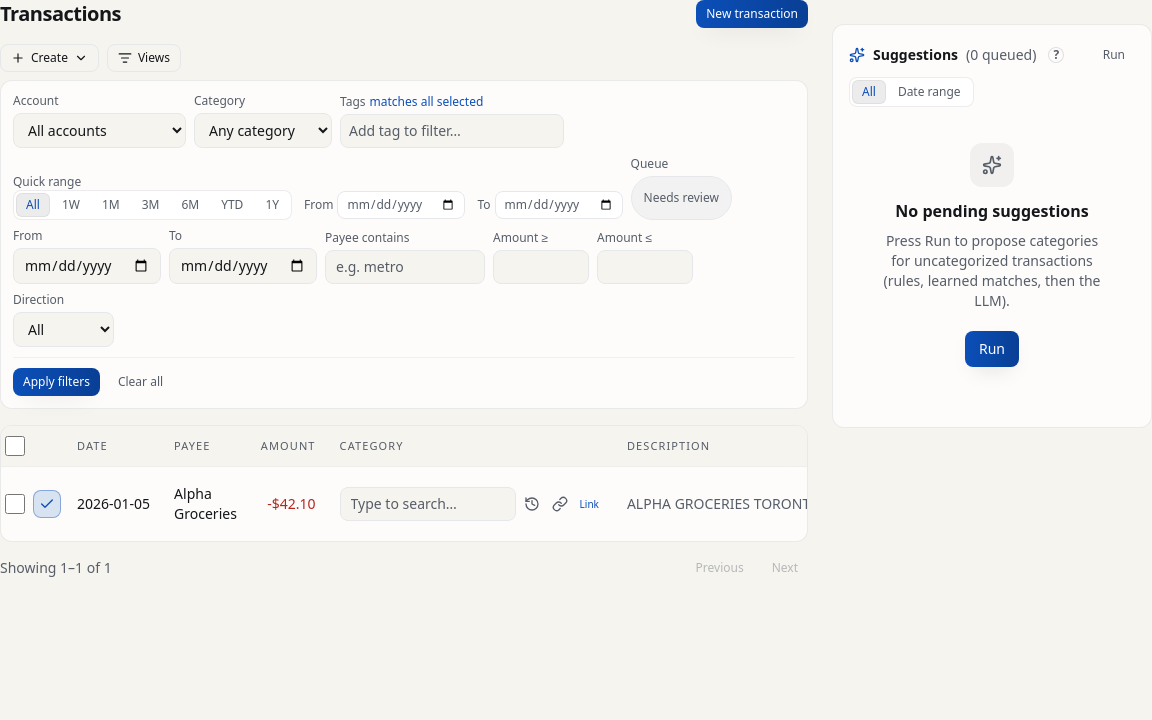
Test case: M104 multi-tag filter › opens the management modal from the picker's footer
Focus the dropdown labelled "Add tag to filter" at (452, 131), box [340, 114, 564, 148]
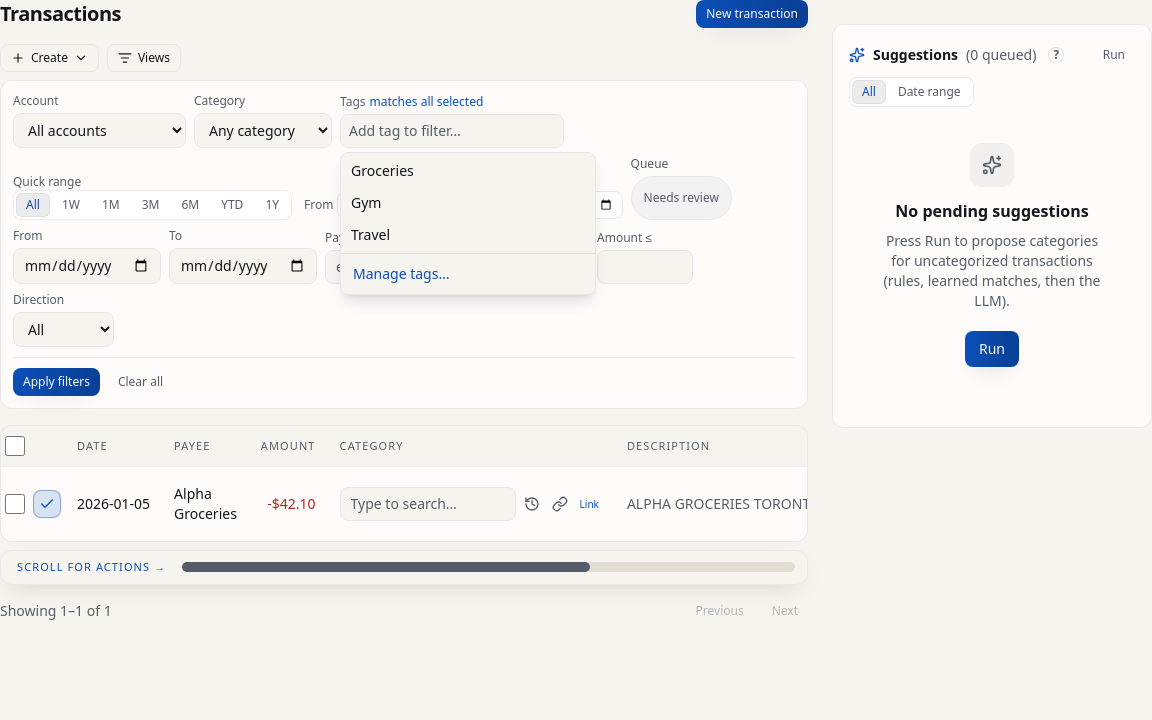
Click the button "Manage tags…" at (468, 274), box [345, 258, 591, 290]
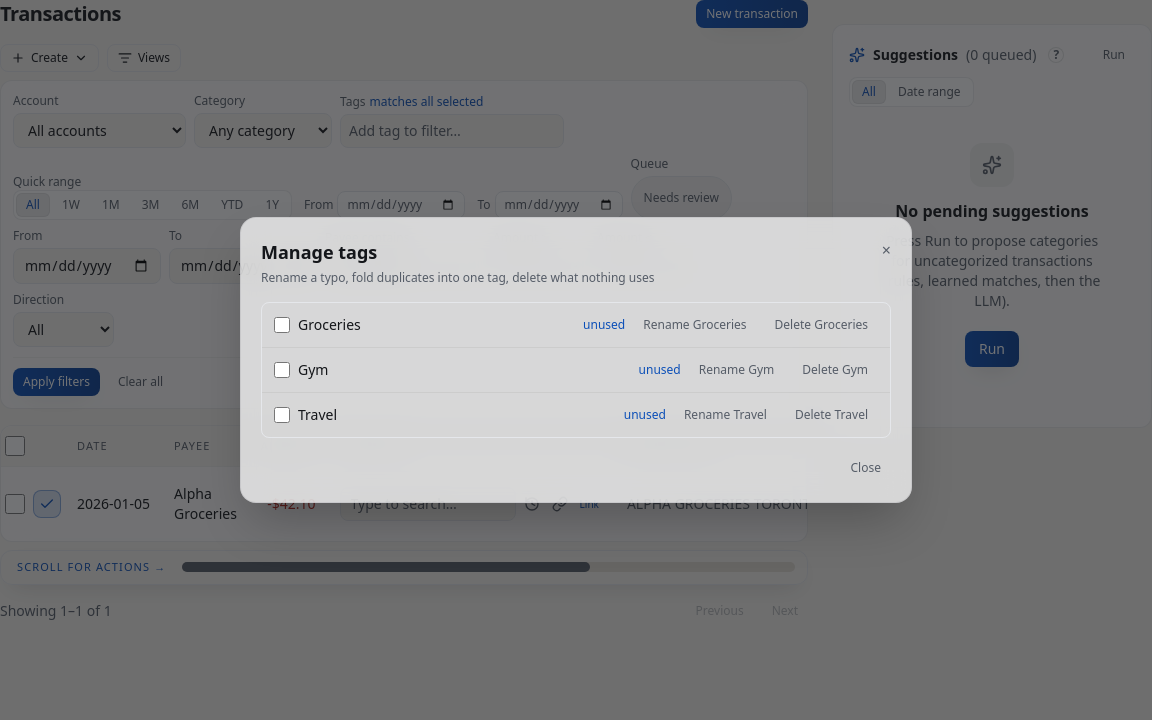
Now the dialog "Manage tags" is shown, box [240, 217, 912, 503]
